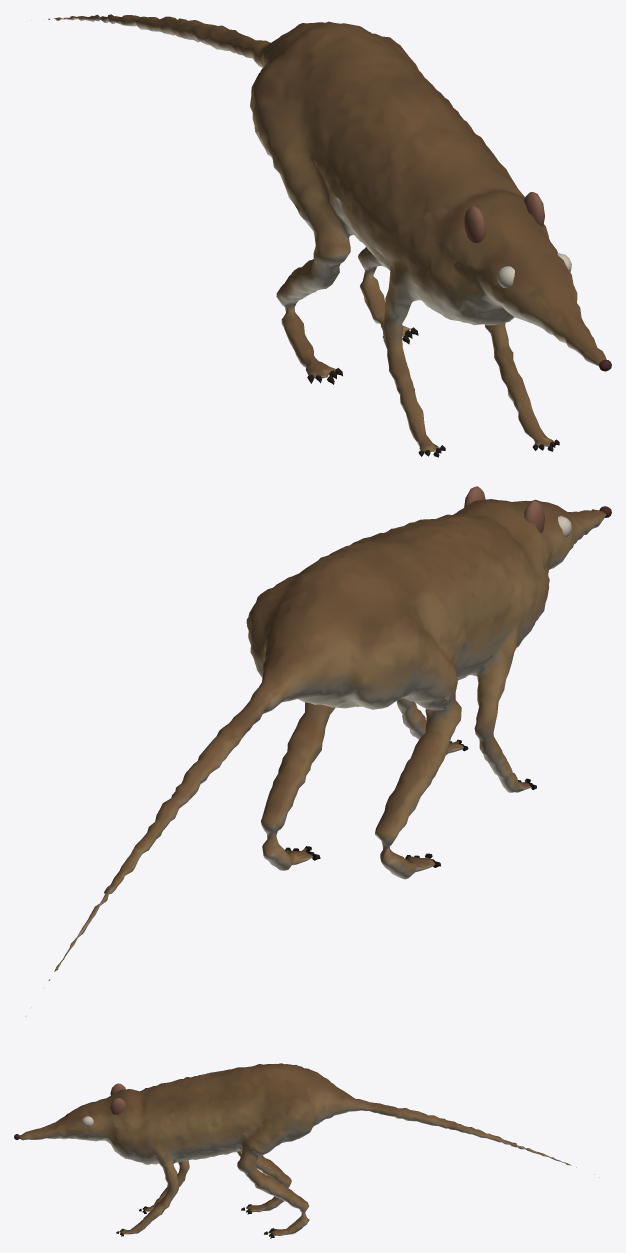
Rendered from Zalambdalestes.fbx.
3 views of the same model, one above another, from view 1: azimuth 30°, elevation 25°; view 2: azimuth 150°, elevation 25°; view 3: azimuth 270°, elevation 25° (orthographic). The views are drawn at different scales.
Visible parts, largest first — view 1: Zalambdalestes; view 2: Zalambdalestes; view 3: Zalambdalestes.
Boxes of the visible parts, x1,y1,x2,y2 form: Zalambdalestes: [48, 14, 611, 457]; Zalambdalestes: [25, 486, 611, 1016]; Zalambdalestes: [14, 1063, 599, 1238].
Bounding box in the file's own units: 0.2518 × 0.4556 × 1.58.
